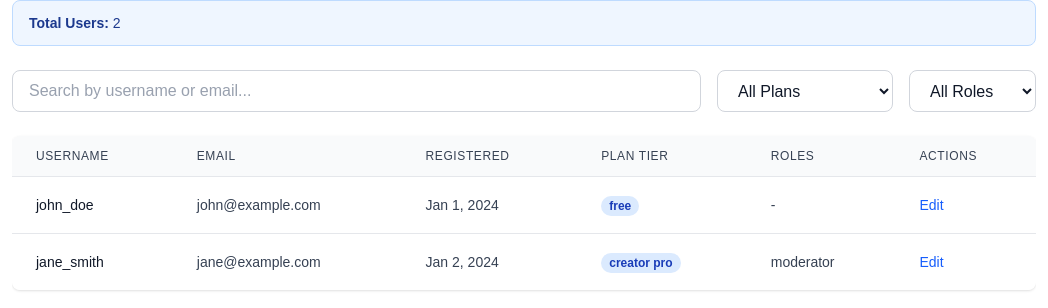
UserManagementTab › Filter Functionality › should filter by role
Expected: the text "jane_smith" is shown, 36,254 -> 104,270
Note: Get all comboboxes and find the second one (role filter)
Step 1. Select "Moderator" in the 2nd dropdown → (972, 91), box 909,70 -> 1036,112
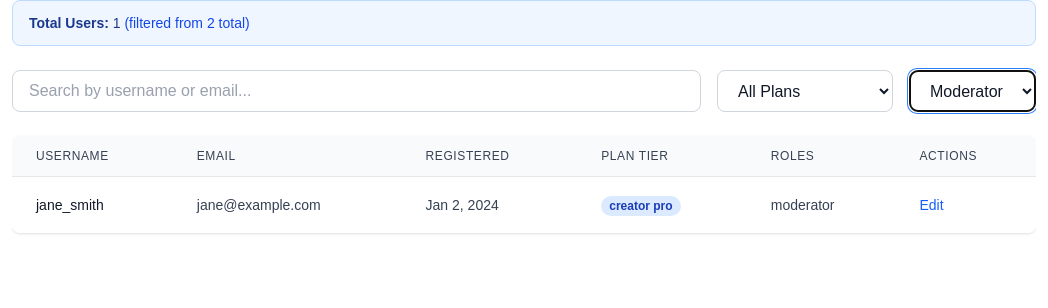
Expected: the text "jane_smith" is shown, 36,197 -> 104,213
Now the text "john_doe" is gone
